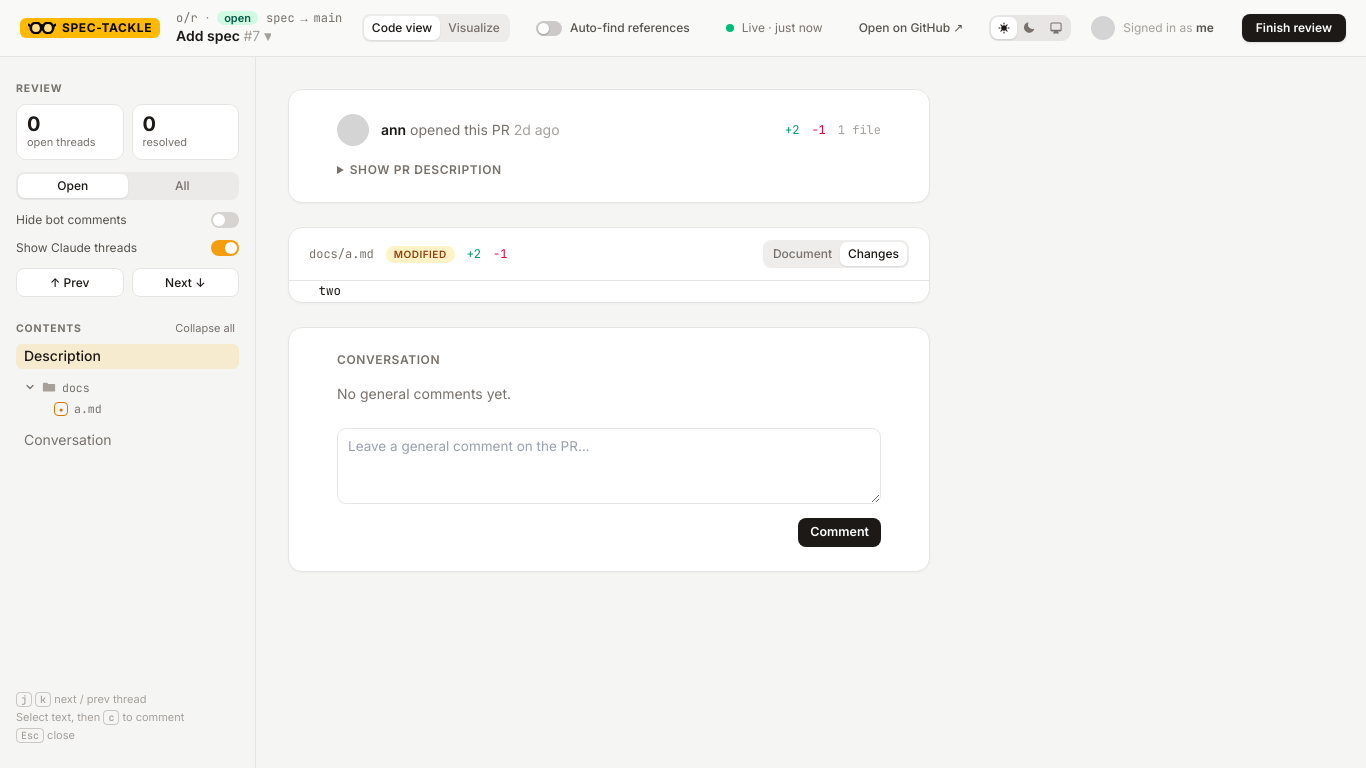
with Claude, the Logic tab swaps views and the review page keeps its state underneath
In the dropdown with placeholder "Leave a general comment on the PR…": (609, 466) [337,428,881,504], type "Half a thought"
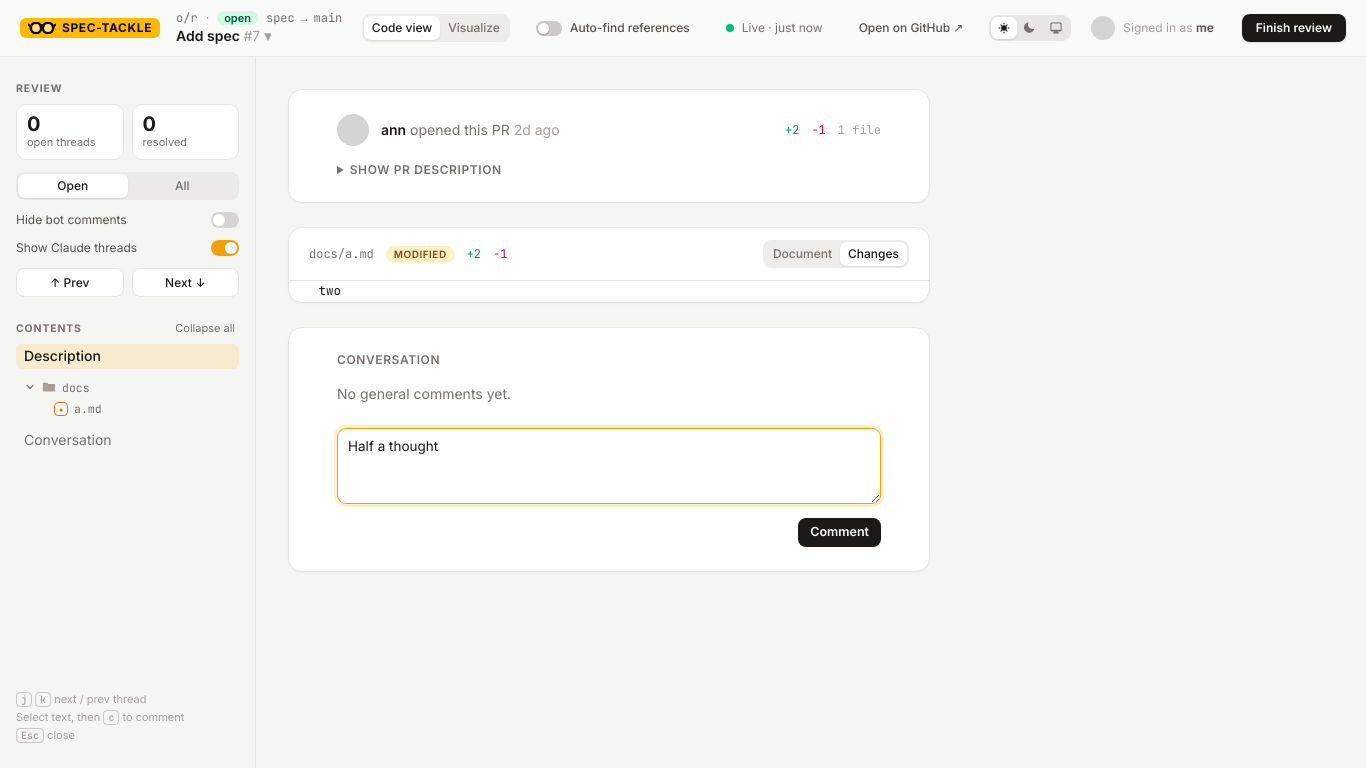
Click the tab "Visualize": (474, 28) [440,16,508,40]
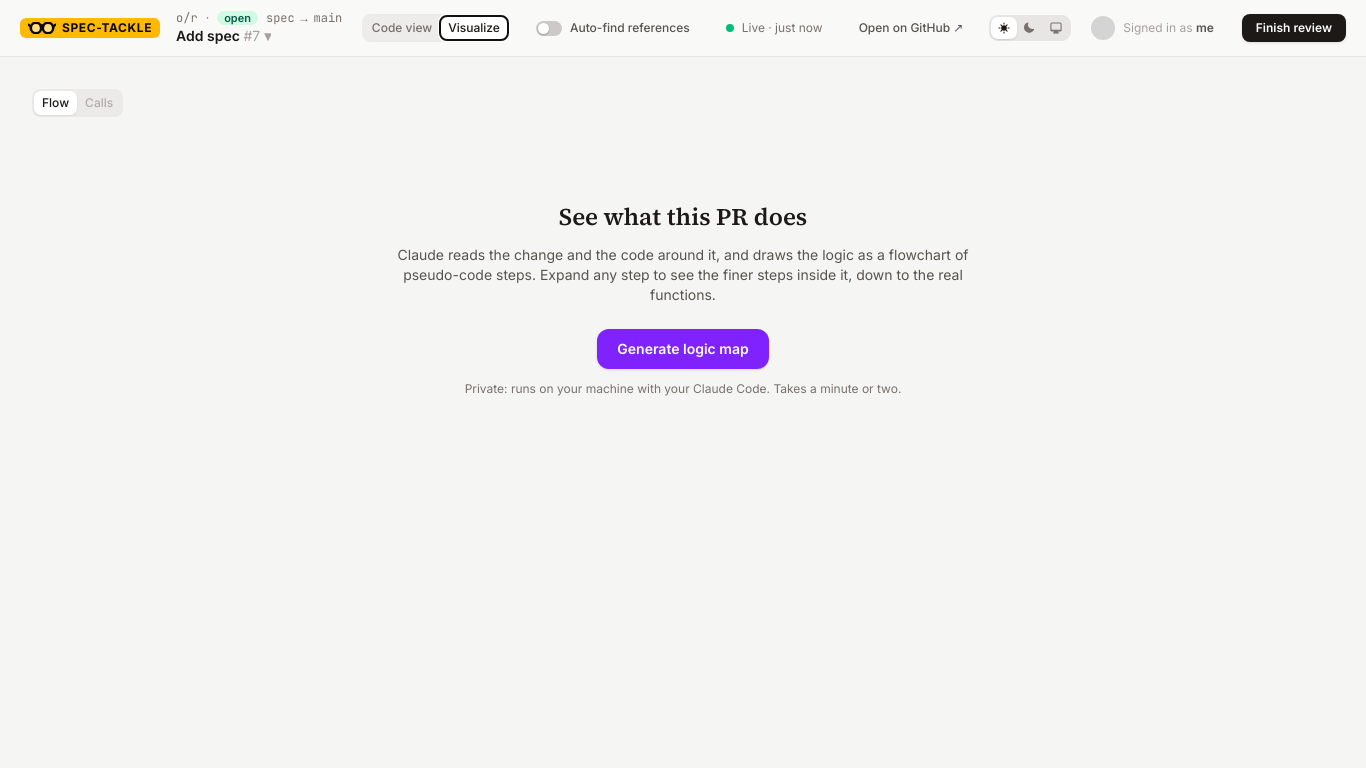
Now the button "Generate logic map" is shown, box [597,329,769,369]
Now the element with id "doc" is gone
Click the tab "Code view": (402, 28) [364,16,440,40]
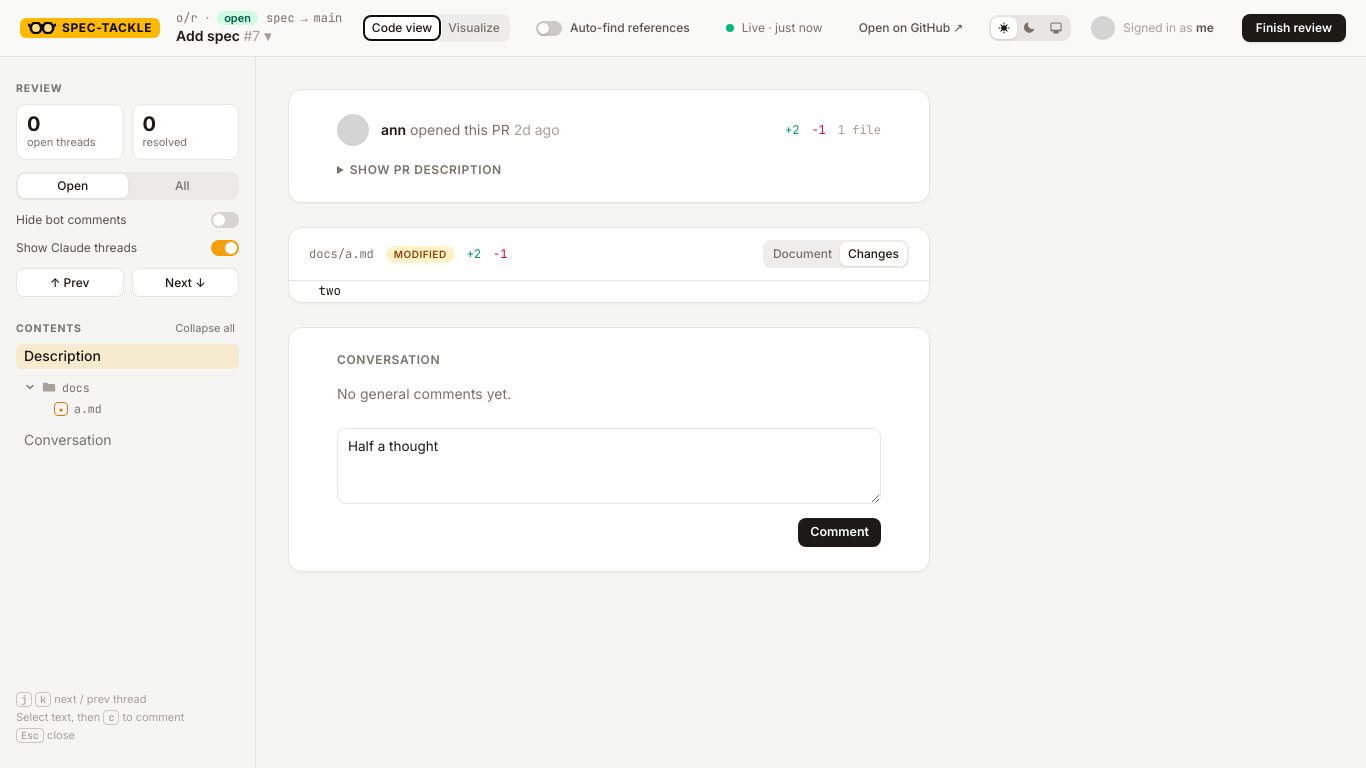
Now the element with id "doc" is shown, box [288,89,930,572]
